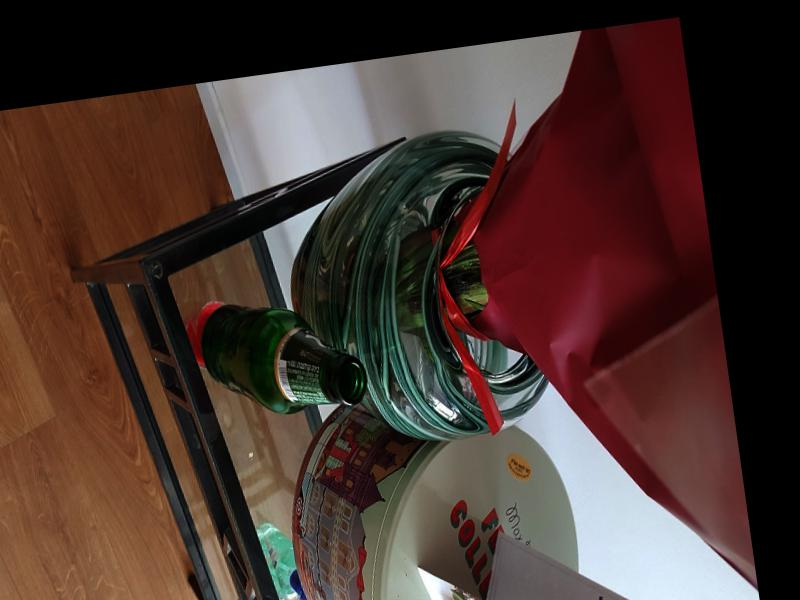Beer: (196, 286, 369, 425)
